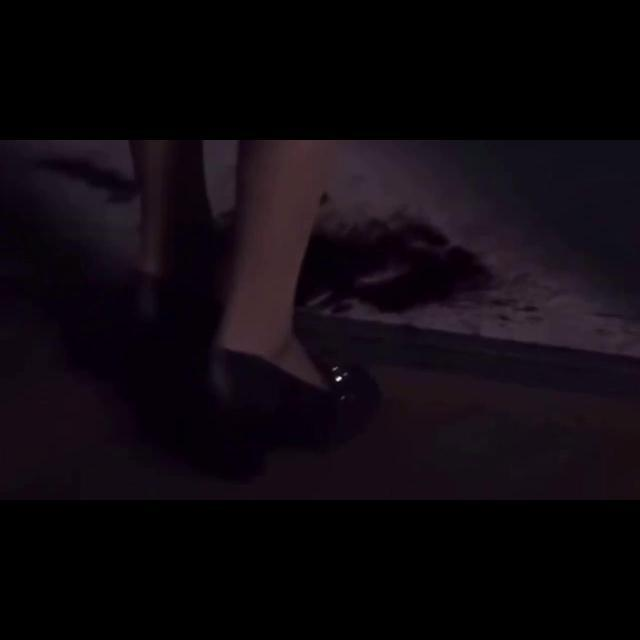blood: (296, 212, 494, 311)
